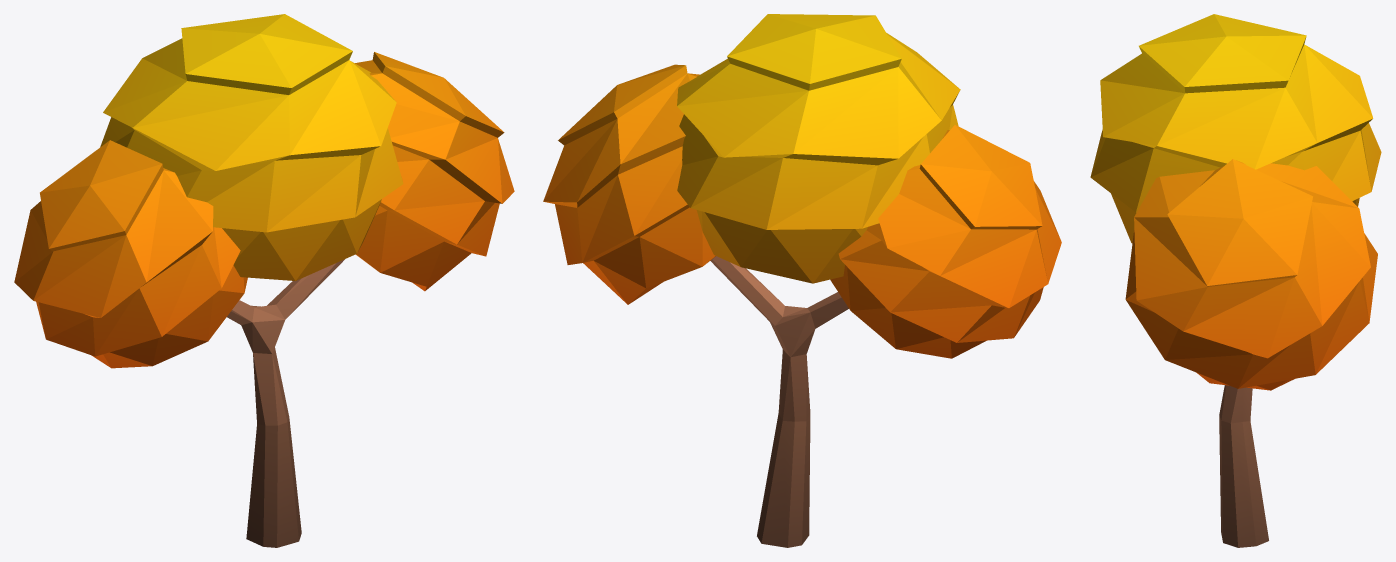
The model's file is autumn tree 13.fbx.
3 renders of one model, left to right at view 1: azimuth 30°, elevation 25°; view 2: azimuth 150°, elevation 25°; view 3: azimuth 270°, elevation 25°, orthographic. The views are drawn at different scales.
Visible parts, largest first — view 1: autumn tree 13; view 2: autumn tree 13; view 3: autumn tree 13.
Part boxes in pixels (box(x1,y1,x2,y2)): autumn tree 13: box(14, 14, 514, 547); autumn tree 13: box(543, 14, 1061, 547); autumn tree 13: box(1090, 14, 1381, 547).
Size of the model in its own units: 738 by 766 by 413.
